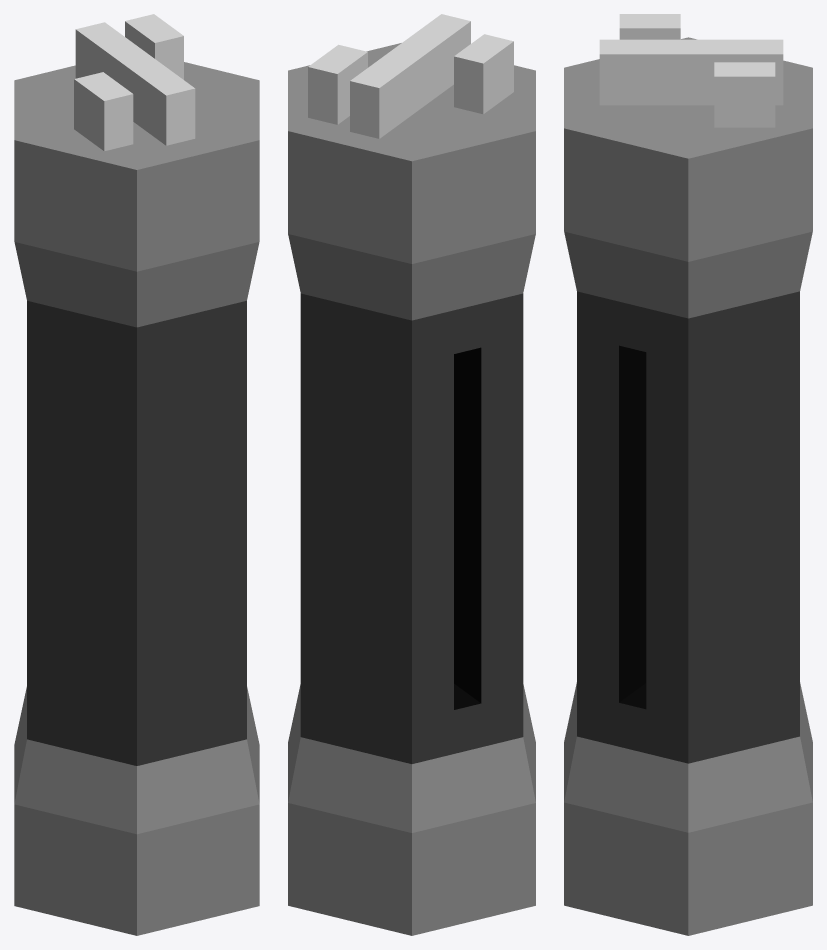
The model's file is tech_small_E.FBX.
The picture shows the model from 3 angles, left to right: view 1: azimuth 30°, elevation 25°; view 2: azimuth 150°, elevation 25°; view 3: azimuth 270°, elevation 25°; orthographic projection.
Parts seen in each view (by area): view 1: tech_small_E; view 2: tech_small_E; view 3: tech_small_E.
Part boxes in pixels (x1,y1,x2,y2): tech_small_E: (14,14,259,935); tech_small_E: (288,14,535,935); tech_small_E: (564,14,812,935).
Bounding box in the file's own units: 5.08 × 16.15 × 4.4.
